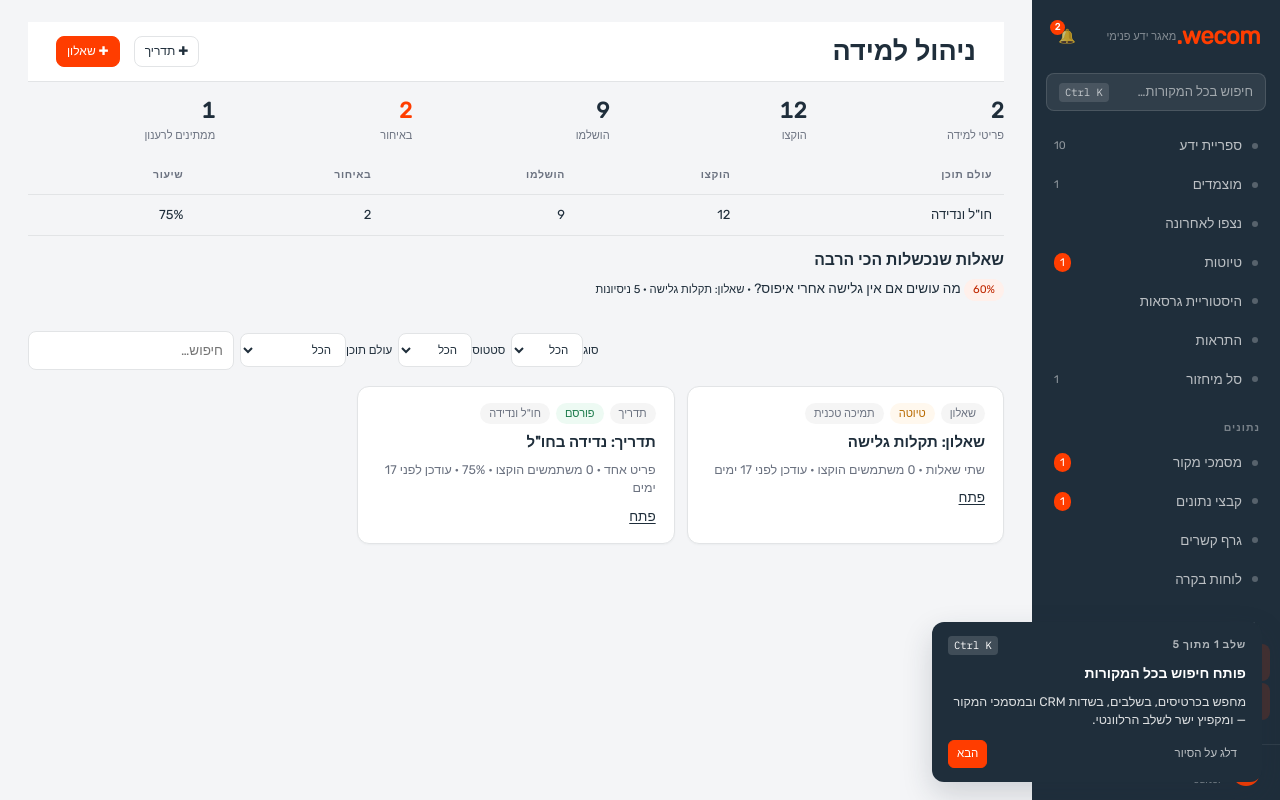
Test case: /learning/manage › creates a quiz and lands in its editor
Expected: the element with test id "learning-items" is shown, [357, 386, 1004, 544]
Click the button "✚ שאלון" at (88, 52), box [56, 36, 120, 67]
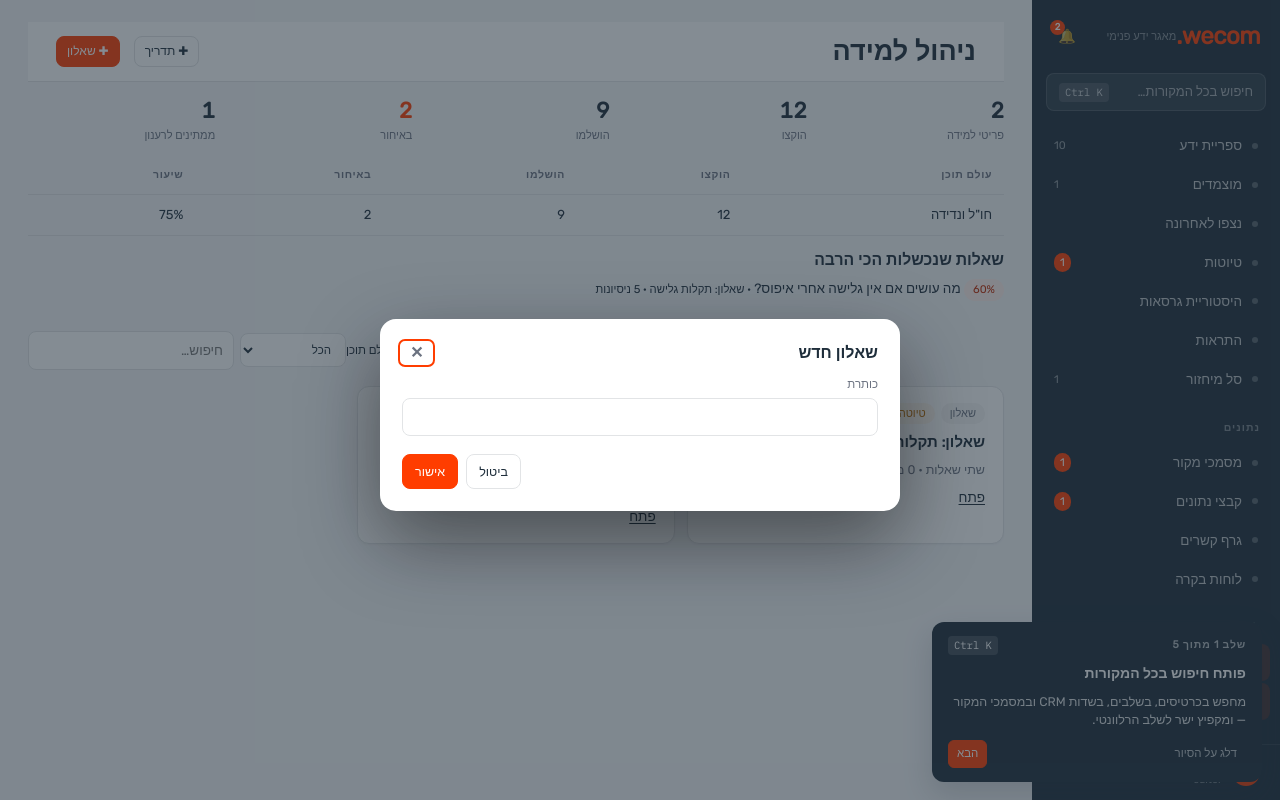
Type "שאלון חדש" into the field labelled "כותרת" at (640, 417), box [402, 398, 878, 436]
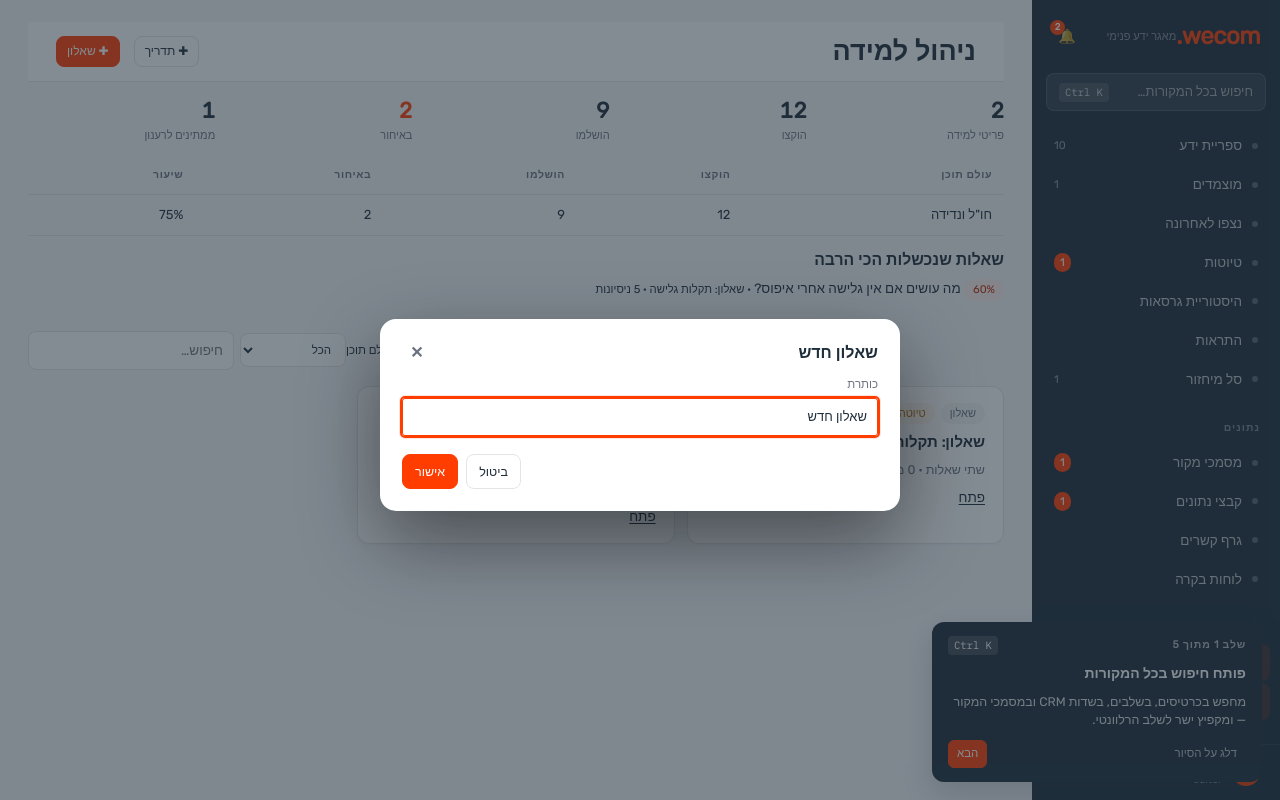
Note: `modal.prompt`'s confirm button is labelled 'אישור' app-wide.
Click the button "אישור" at (430, 471), box [402, 454, 458, 489]
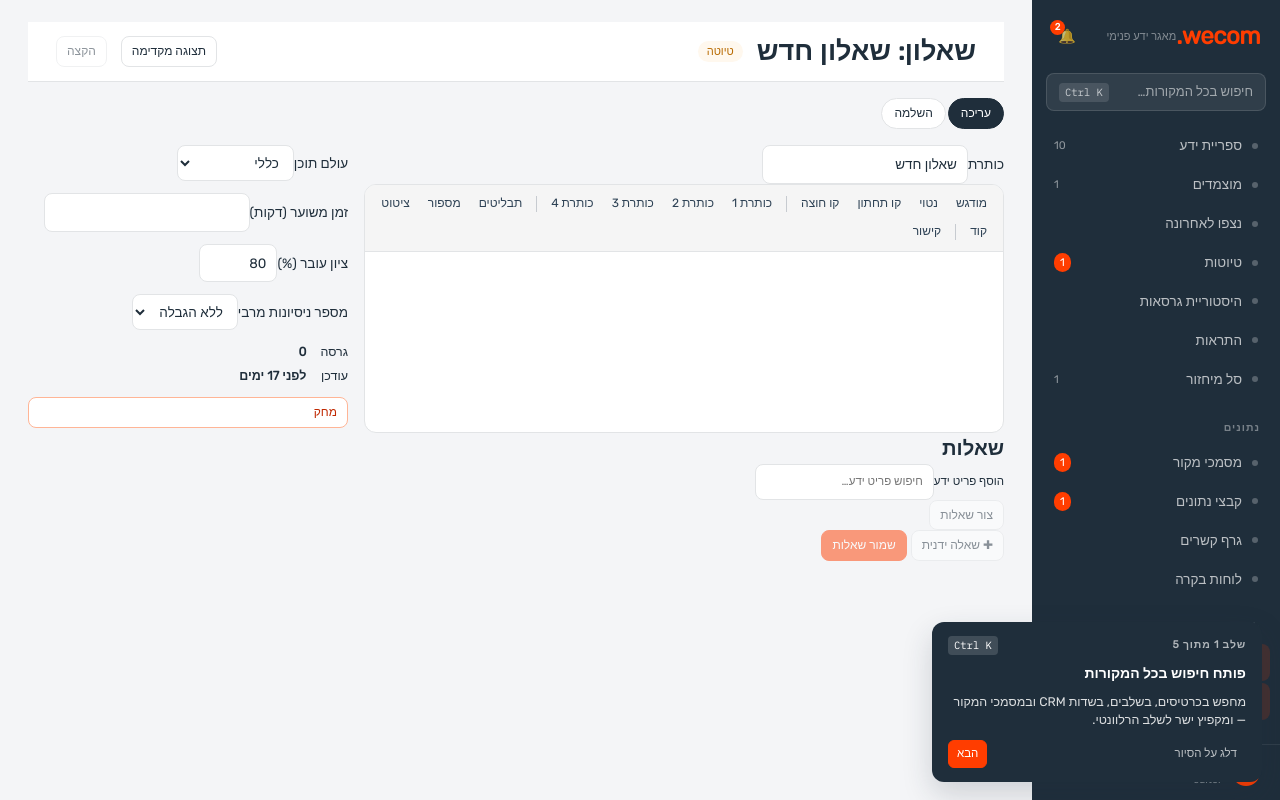
Expected: the heading "שאלון: שאלון חדש" is shown, [757, 31, 976, 72]
